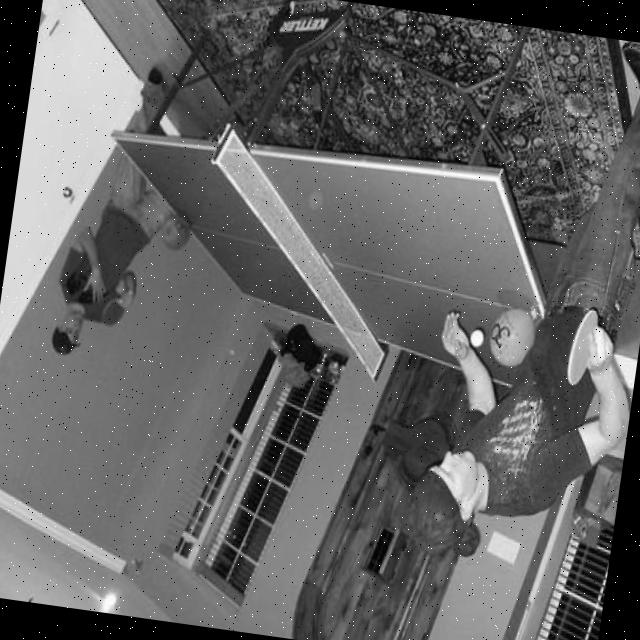ping-pong-ball: (468, 327, 484, 347)
